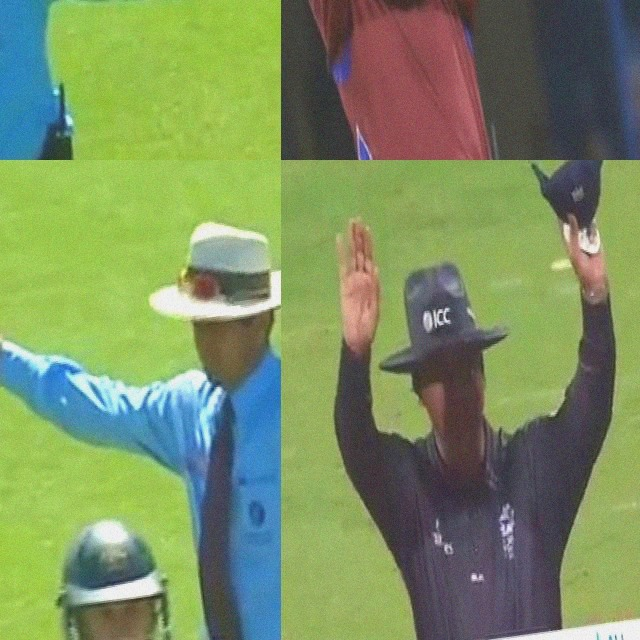No_Ball: (0, 0, 277, 160)
Six: (296, 160, 640, 640), (281, 0, 571, 160)
Wide: (0, 171, 281, 601)
